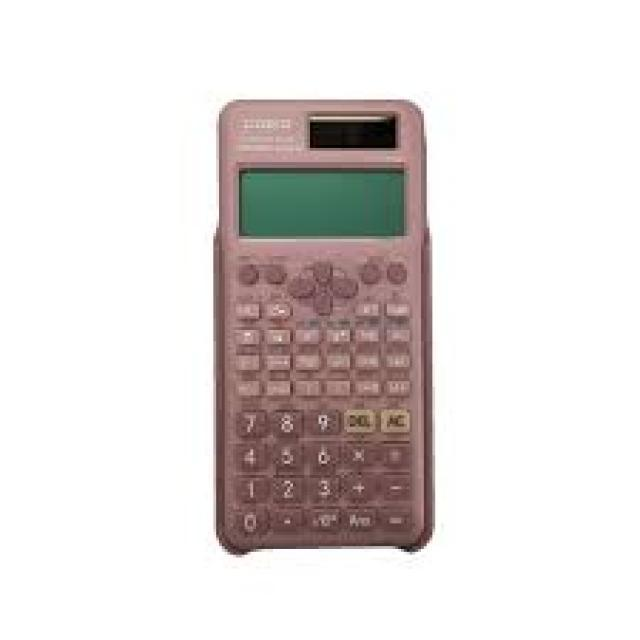Calculator: (190, 88, 448, 567)
